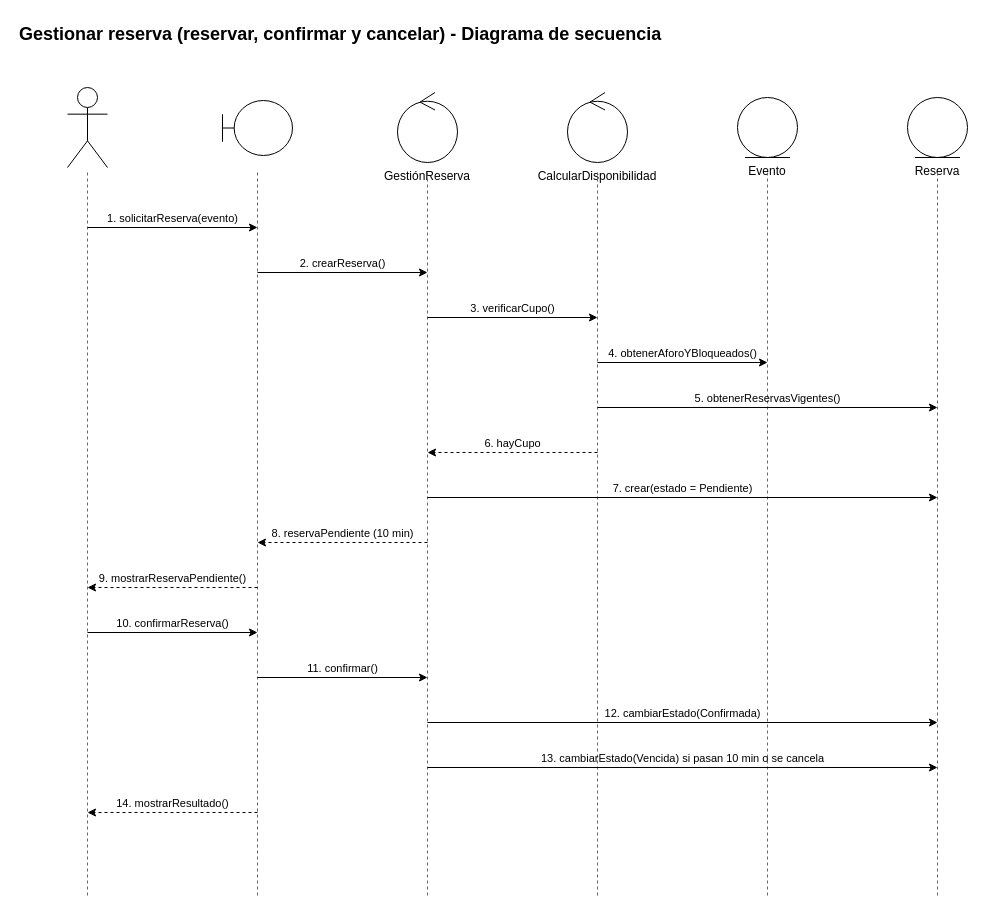
Image size: 985x916. Some labels were removed from this diagram. Here are the shapes that lost their labels. From the top down, the centre of each, then its label:
At pixel 87 127: "Estudiante".
At pixel 257 128: "PantallaEventos".
